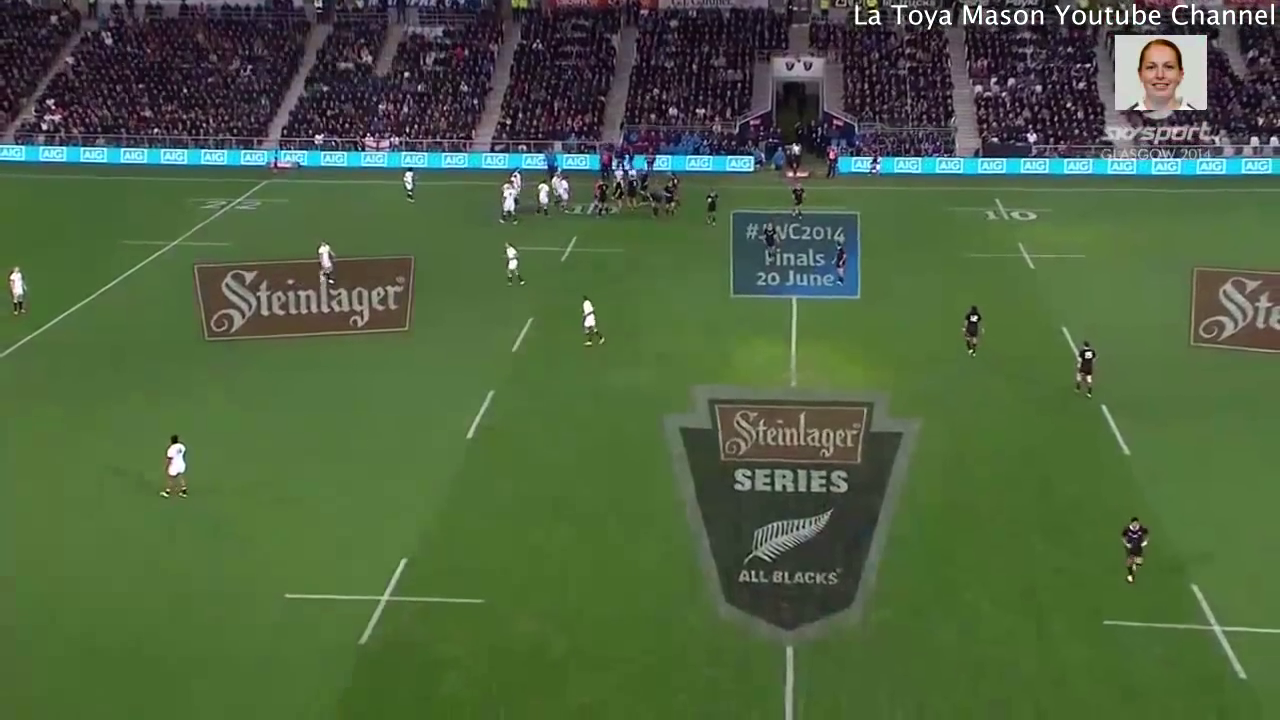10_metre: (274, 555, 498, 659), (1096, 580, 1280, 688), (956, 239, 1092, 277), (944, 194, 1059, 224)
player: (1107, 511, 1152, 590), (151, 429, 195, 507), (952, 298, 992, 364), (573, 290, 612, 355), (1069, 334, 1104, 400), (2, 261, 32, 321), (312, 237, 345, 290), (823, 234, 853, 286), (499, 237, 525, 289), (397, 164, 422, 208), (499, 183, 520, 227), (785, 180, 806, 223), (755, 219, 777, 260), (699, 185, 719, 228), (533, 178, 552, 220), (645, 182, 665, 218), (624, 174, 640, 217), (559, 173, 574, 217), (609, 178, 625, 218), (664, 181, 679, 219), (596, 179, 610, 217), (670, 171, 682, 206), (550, 169, 560, 207), (640, 171, 652, 200), (598, 166, 617, 182), (512, 168, 523, 193), (507, 174, 520, 194), (612, 166, 627, 180), (500, 178, 513, 191)
